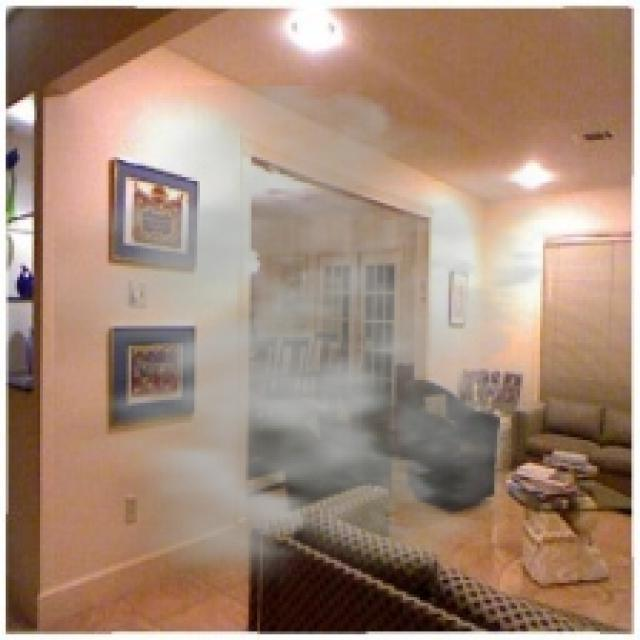Smoke: (54, 86, 609, 614)
